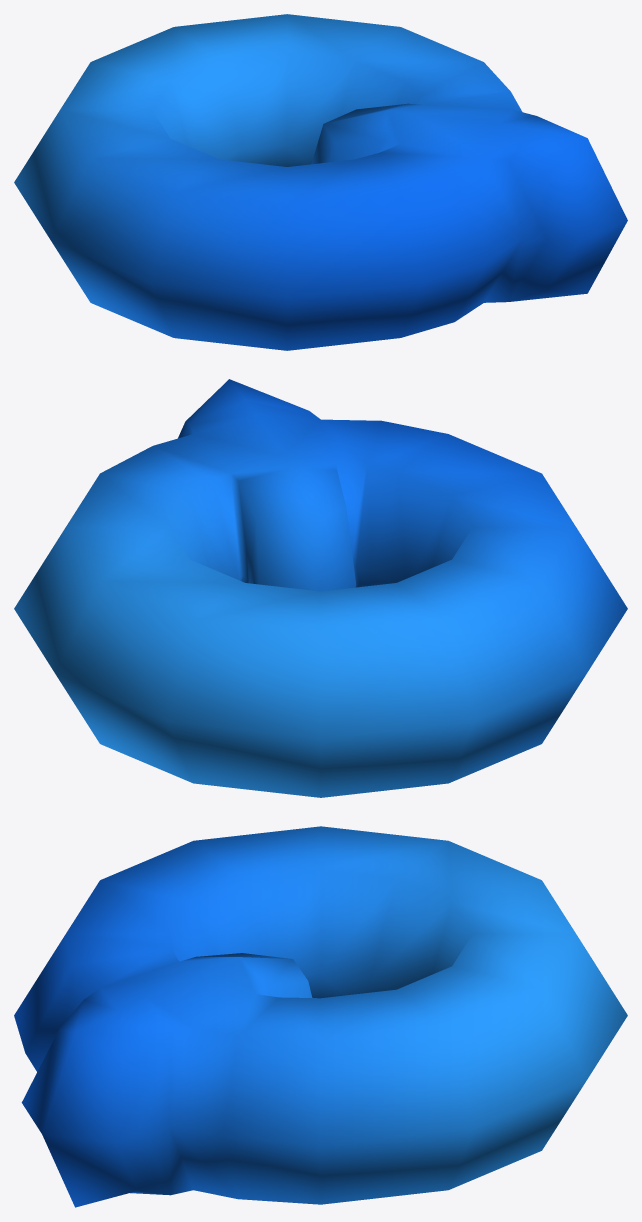
The model's file is CartoonFont_Q.FBX.
3 renders of one model, top to bottom at view 1: azimuth 30°, elevation 25°; view 2: azimuth 150°, elevation 25°; view 3: azimuth 270°, elevation 25°, orthographic. The views are drawn at different scales.
Parts seen in each view (by area): view 1: Q; view 2: Q; view 3: Q.
Boxes of the visible parts, left/top/right/bottom form: Q: left=14, top=14, right=627, bottom=350; Q: left=14, top=379, right=627, bottom=797; Q: left=14, top=826, right=627, bottom=1207.
Size of the model in its own units: 32.36 by 10.85 by 32.36.
1 material, 1 textured.
